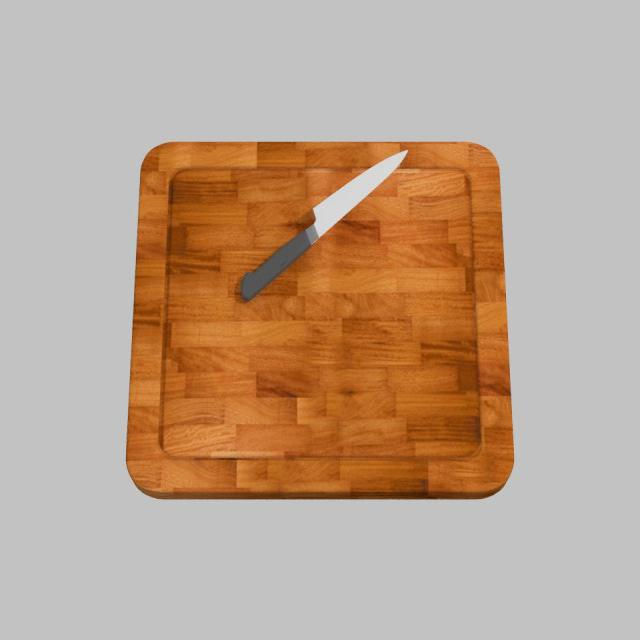knife: (241, 230, 312, 302)
